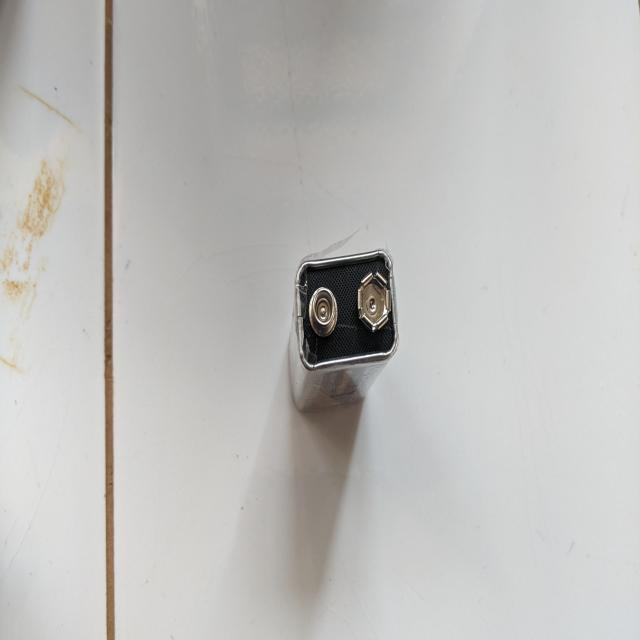Dry Cell: (285, 243, 401, 399)
